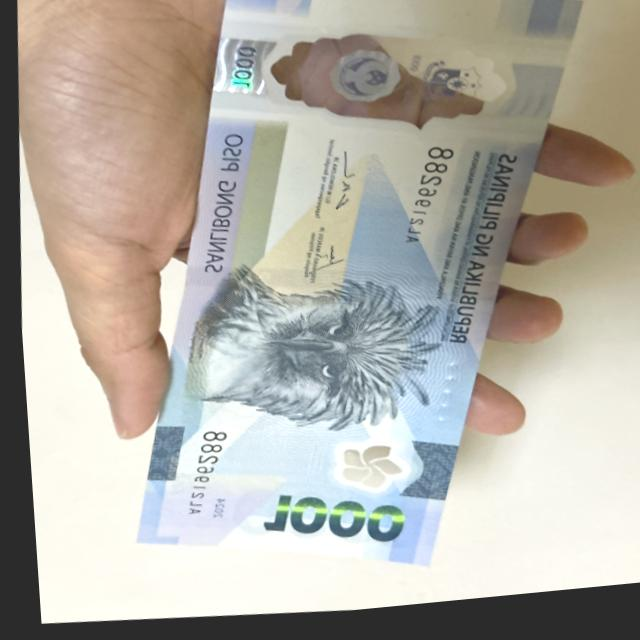clear_window: (247, 17, 519, 154)
eagle: (172, 248, 443, 454)
sampaguita: (307, 442, 411, 503)
serial_number: (392, 138, 466, 265), (162, 422, 228, 528)
